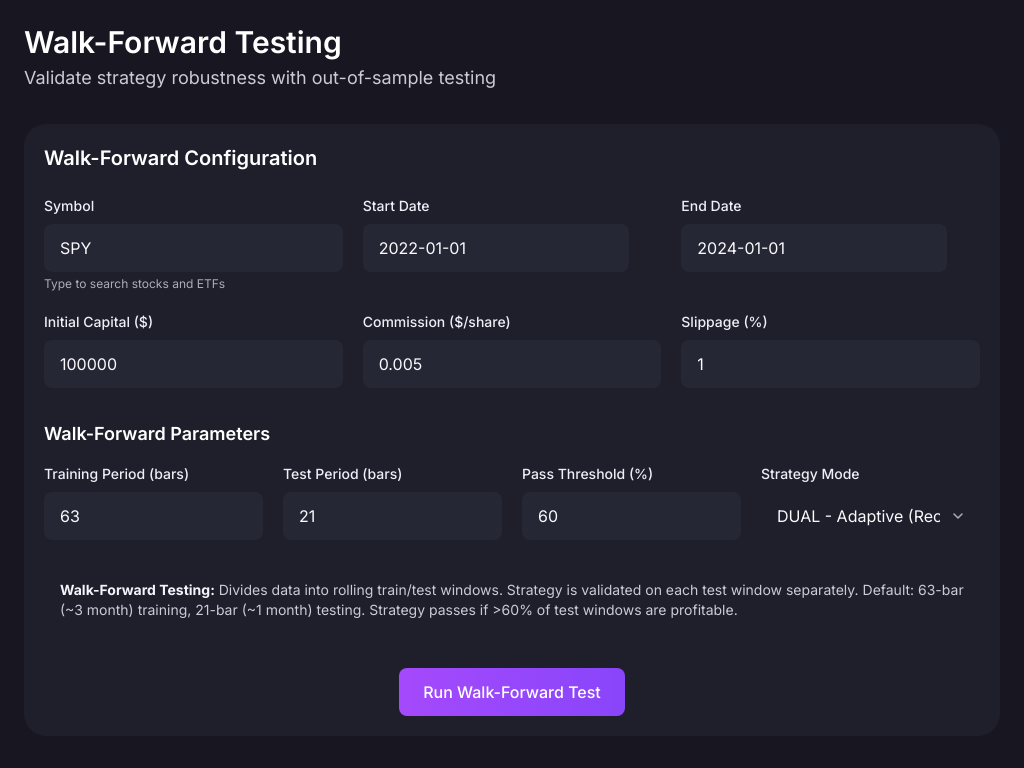
it: Walk-Forward Page › shows loading state when running walk-forward
What coordinates should you click on to do the following:
click the button "Run Walk-Forward Test"
I would click on:
 (512, 692)
Its box is [399,668,625,716].
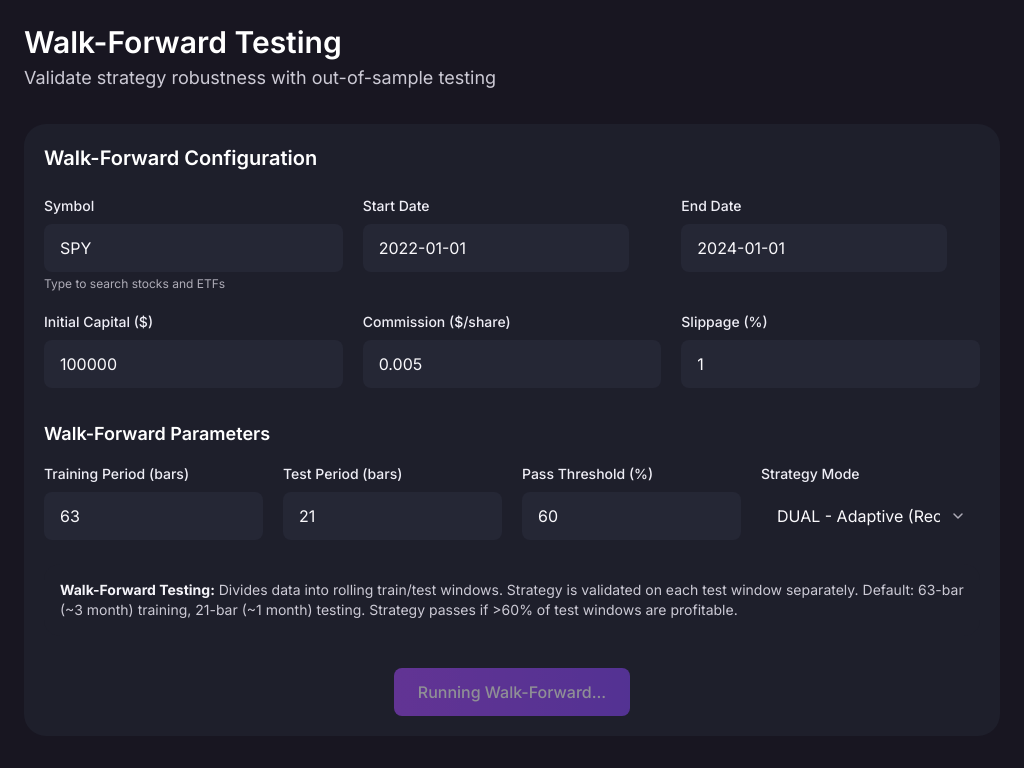
Result: the button "Run Walk-Forward Test" is disabled at [394,668,630,716]
